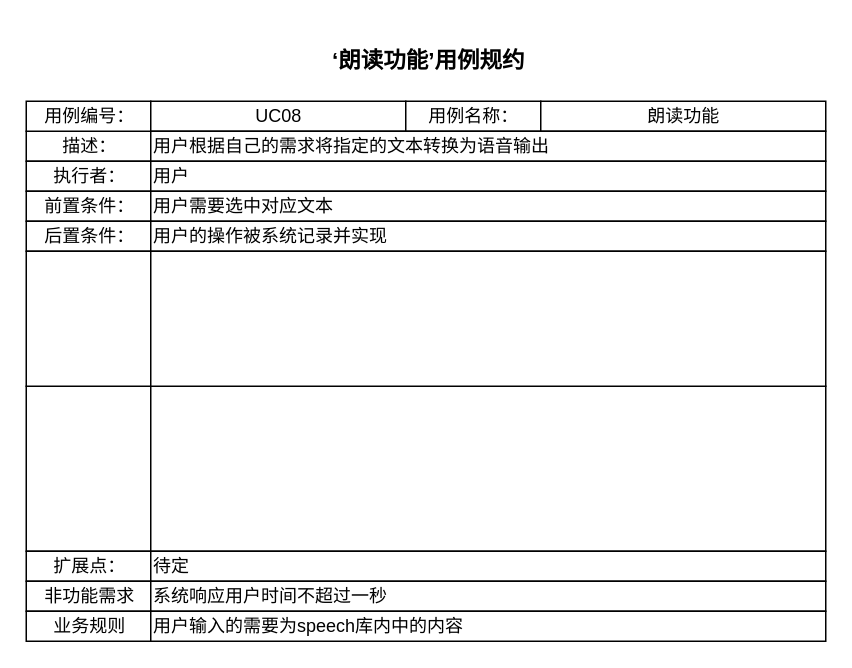
Some shapes in this 852 by 668 pixel diagram are drawn without their labels. Here are the shapes that lost their labels. From the top down, the box of each, then its label:
(25, 250, 151, 386): 基本流：
(149, 250, 826, 386): 1.用户打开一个note 2.用户选中需要朗读的文本 3.系统显示朗读选项 4.用户点击朗读选项 5.系统将朗读的要求传递给合成器 6.系统将语音输出
(25, 385, 151, 551): 备选流：
(149, 385, 826, 551): 5a.合成器发现语音库内无选中的文本 进入6a 6a.系统显示文本‘未能正确识别文本内容’
